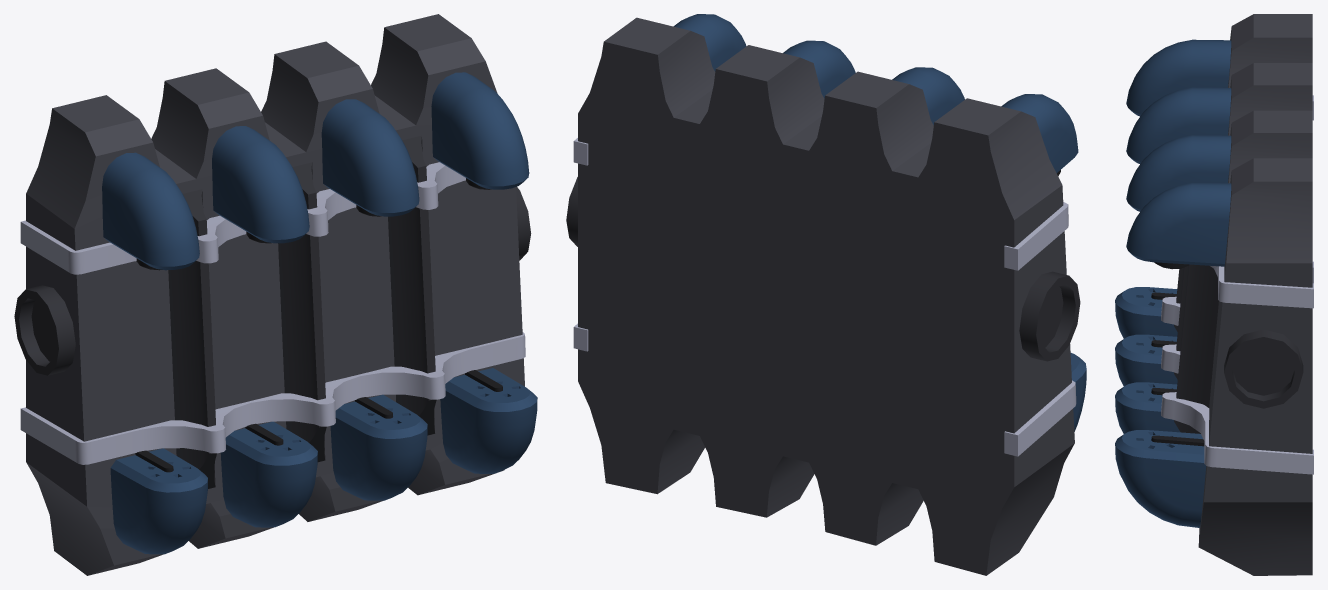
File: Misc_BatteryCharger_X4_A.fbx
The picture shows the model from 3 angles, left to right: view 1: azimuth 30°, elevation 25°; view 2: azimuth 150°, elevation 25°; view 3: azimuth 270°, elevation 25°; orthographic projection. The views are drawn at different scales.
Visible parts, largest first — view 1: Misc_BatteryCharger_X4_A.001; view 2: Misc_BatteryCharger_X4_A.001; view 3: Misc_BatteryCharger_X4_A.001.
Boxes of the visible parts, box(x1,y1,x2,y2) form: Misc_BatteryCharger_X4_A.001: box(14, 14, 537, 575); Misc_BatteryCharger_X4_A.001: box(566, 14, 1086, 575); Misc_BatteryCharger_X4_A.001: box(1115, 14, 1313, 575).
Size of the model in its own units: 0.344 by 0.3091 by 0.141.
